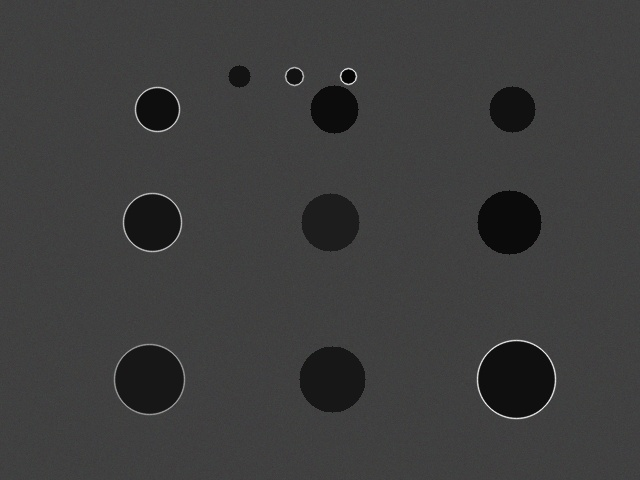hole: (477, 340, 555, 418), (114, 344, 184, 414), (299, 346, 365, 412), (477, 190, 541, 254), (123, 193, 181, 251), (301, 193, 359, 251), (310, 85, 358, 133), (489, 86, 535, 132), (135, 87, 179, 131), (228, 65, 250, 87), (285, 67, 303, 85), (340, 68, 356, 84)
